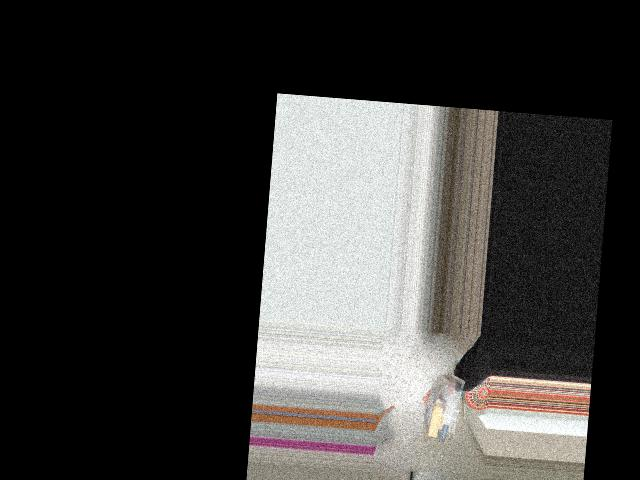cheese: (421, 373, 467, 443)
